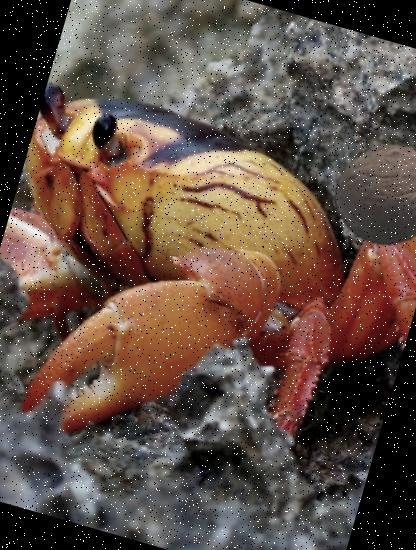Walnut: (320, 130, 416, 261)
